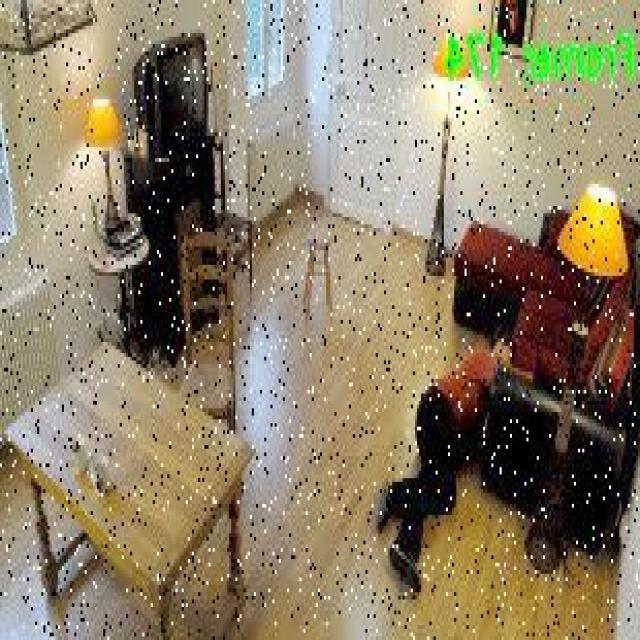fall: (373, 340, 534, 602)
